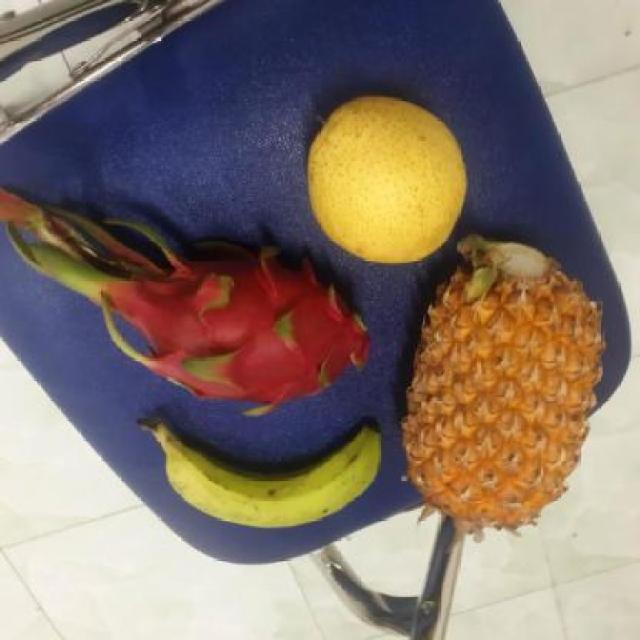banana: (152, 410, 396, 524)
dragon fruit: (113, 238, 385, 413)
pear: (304, 94, 473, 260)
pineapple: (406, 240, 602, 518)
